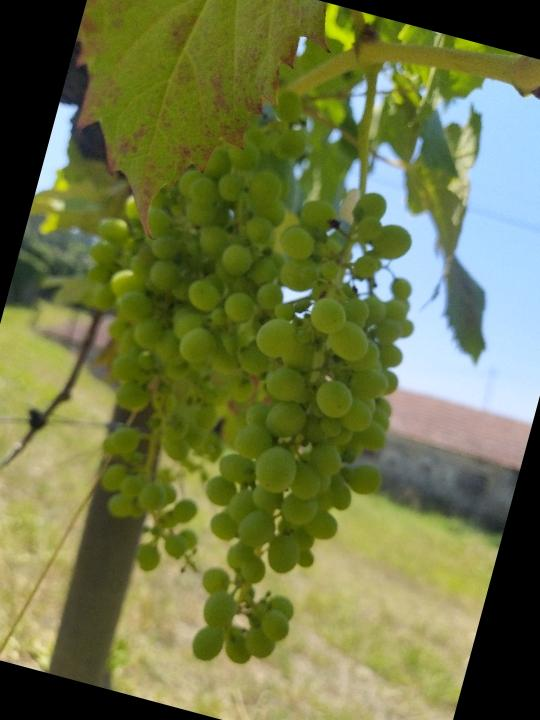grape: (14, 49, 331, 587), (167, 171, 456, 697)
